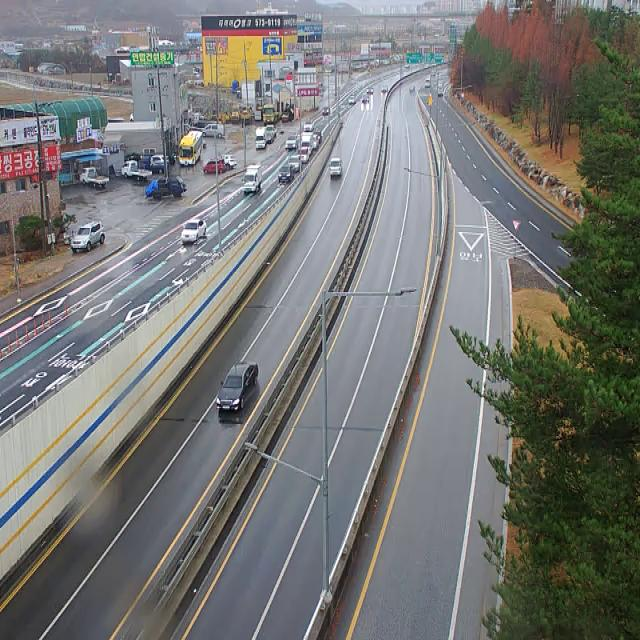Bus: (179, 130, 203, 166)
Car: (217, 362, 259, 410), (71, 220, 105, 254), (182, 220, 206, 243), (138, 155, 164, 173), (198, 124, 223, 137), (278, 165, 294, 183), (203, 161, 224, 174), (223, 155, 237, 170), (288, 156, 302, 171), (150, 155, 170, 165), (298, 146, 309, 163), (285, 136, 298, 150), (266, 125, 277, 138), (304, 120, 314, 132), (313, 130, 322, 143), (282, 112, 292, 122), (312, 135, 319, 149), (266, 133, 274, 144), (437, 84, 444, 96), (361, 95, 370, 103), (425, 76, 431, 87), (322, 107, 330, 115), (348, 96, 356, 104), (367, 86, 374, 94), (381, 85, 388, 92), (409, 85, 416, 92)
Truck: (151, 177, 187, 200), (80, 167, 109, 189), (122, 161, 152, 181), (244, 165, 261, 193), (262, 105, 278, 123), (302, 132, 313, 154), (256, 127, 266, 150), (330, 157, 342, 176)
